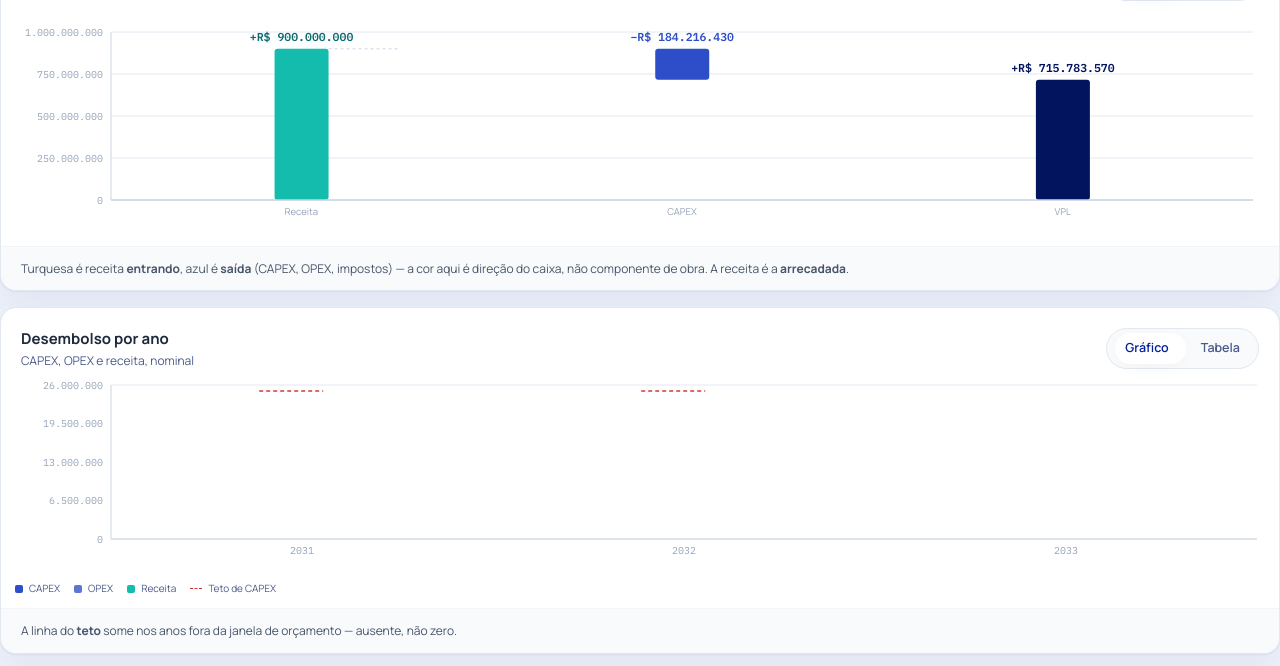
Test: Global — a tabela equivalente é obrigatória, e é o alívio de contraste › o teto de CAPEX ausente aparece como traço, e não como zero
(page scrolled)
Click the tab "Tabela" in the row of "CAPEX, OPEX e receita, nominal": [1220, 348] box [1187,333,1254,364]
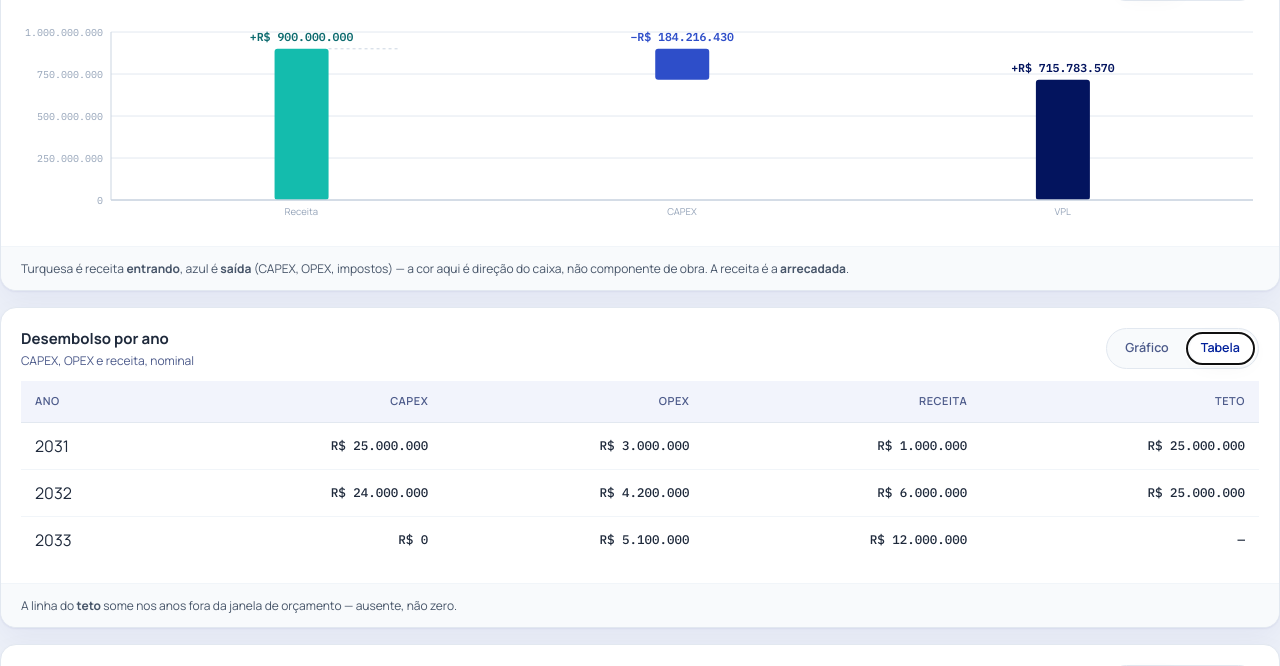
Expected: the text "—" is shown, [981,516,1259,562]
